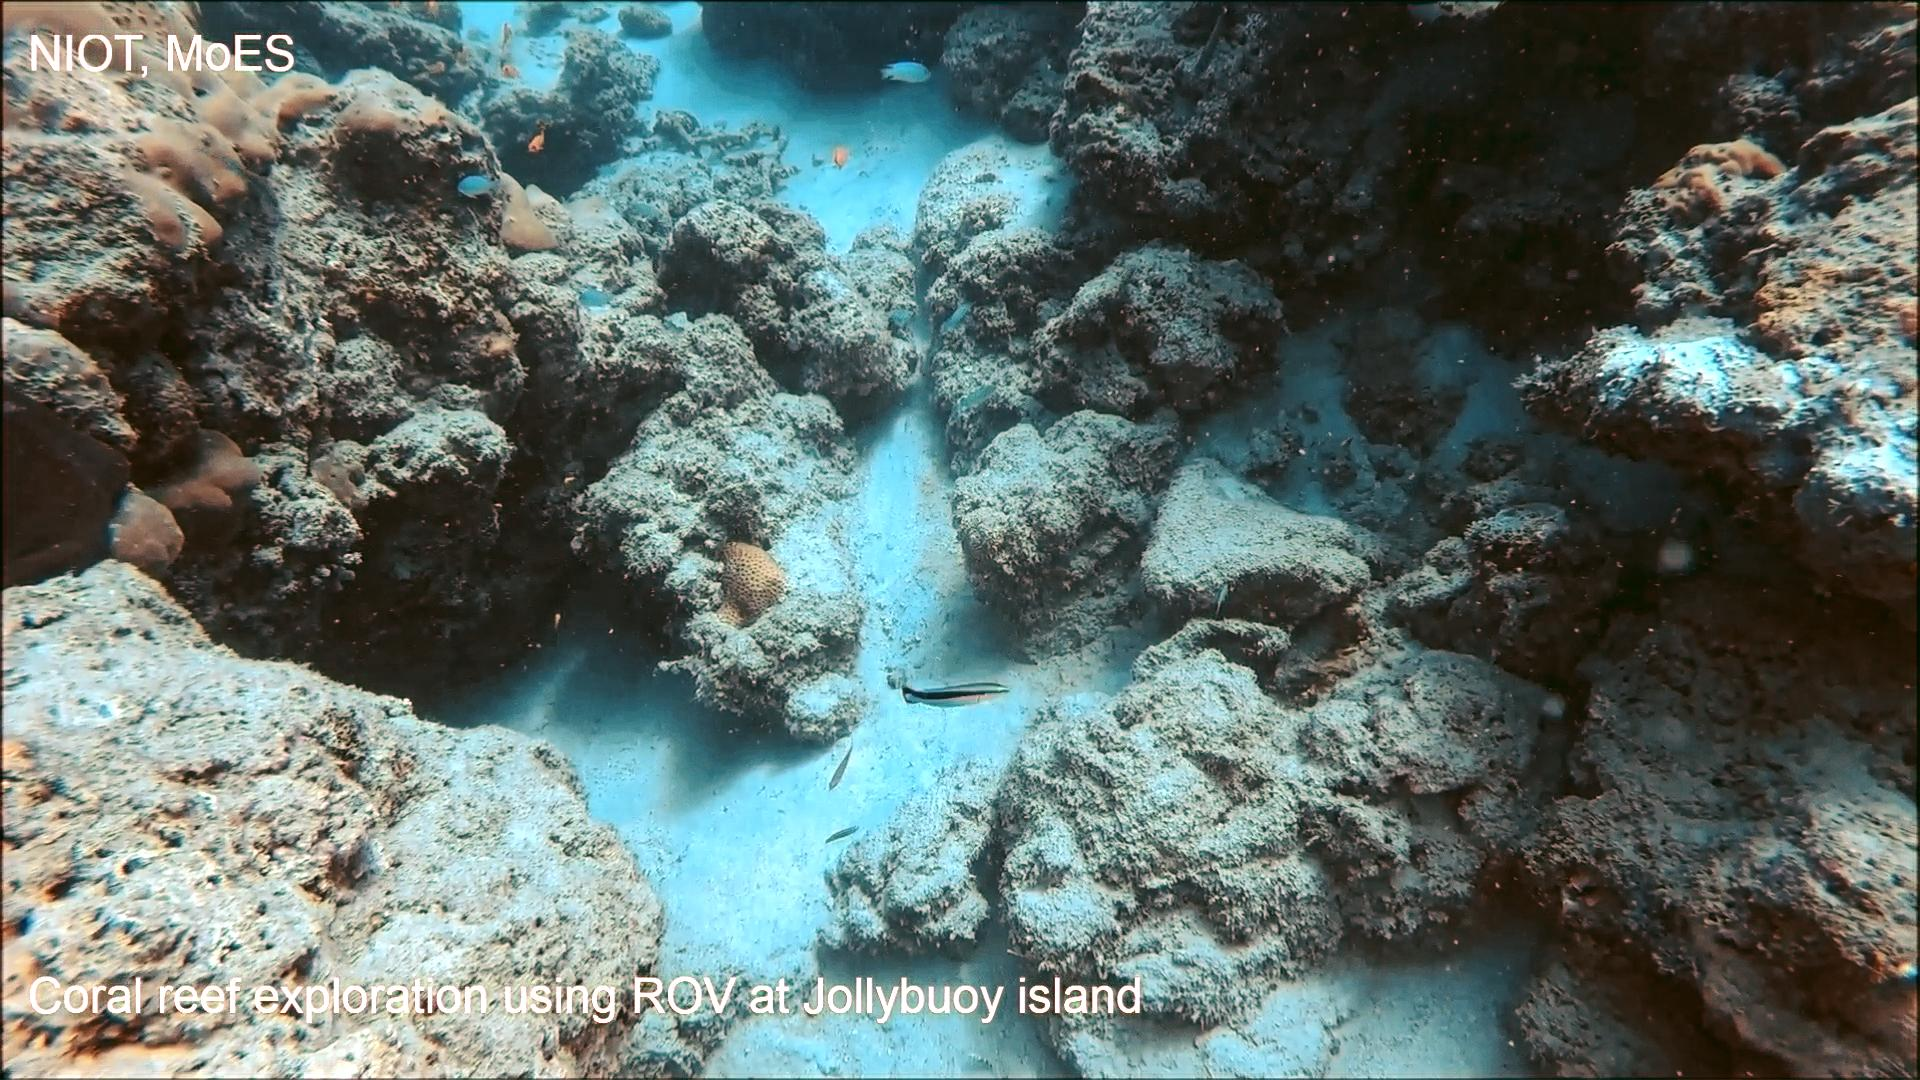Turbinaria-Turbinaria stellulata: (0, 0, 340, 270)
